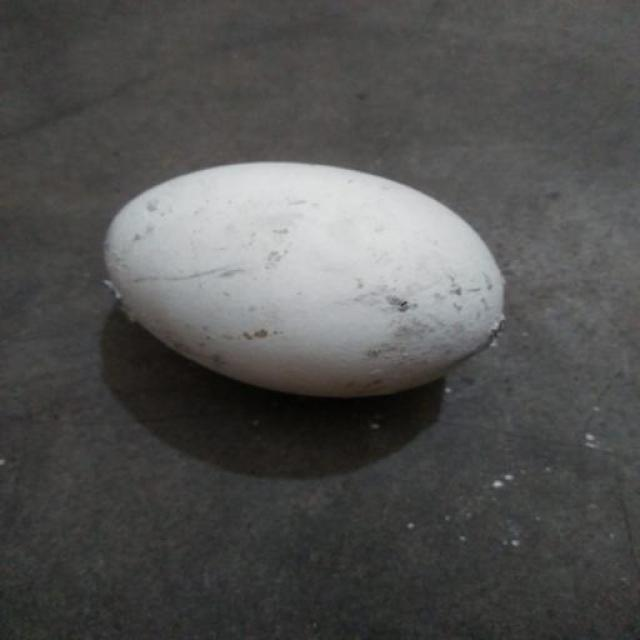telur: (102, 162, 506, 396)
